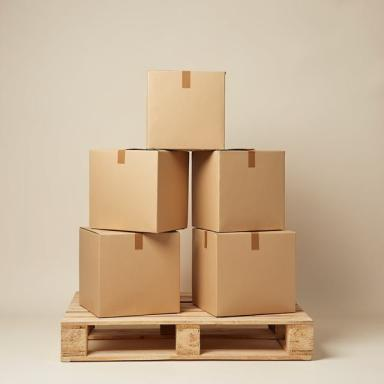pallet: (61, 291, 314, 362), (200, 325, 284, 356), (88, 339, 176, 350)
